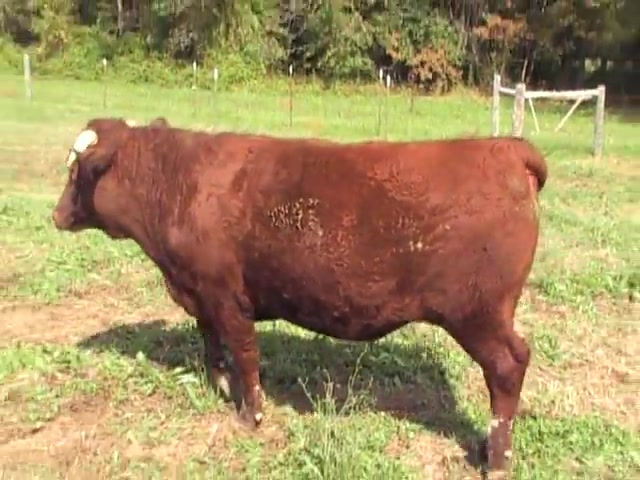cow: (49, 110, 549, 480)
